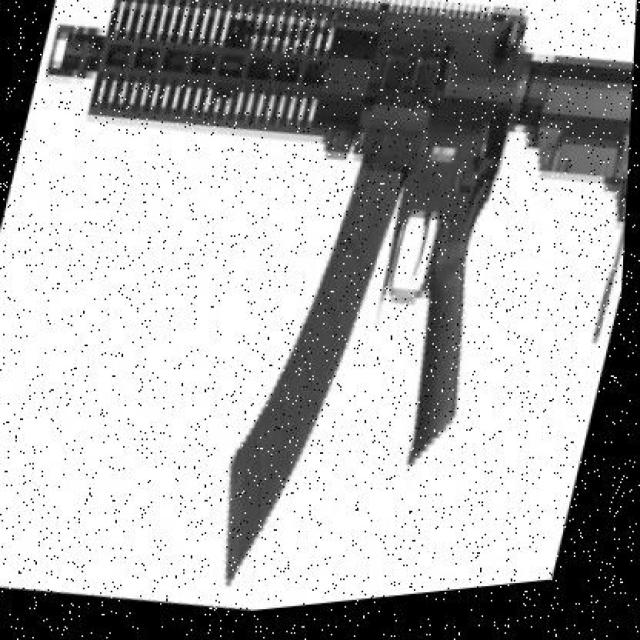weapon: (48, 0, 635, 589)
